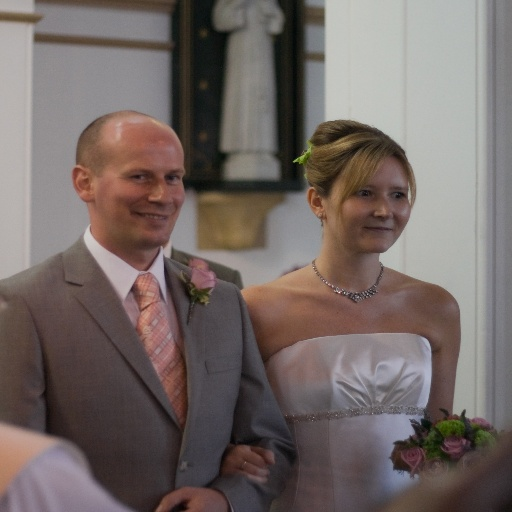hand: (212, 431, 285, 492), (148, 483, 230, 511)
